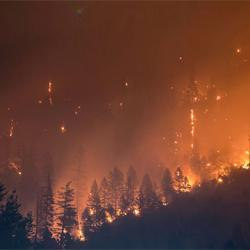fire: (179, 169, 198, 189), (240, 156, 250, 172)
